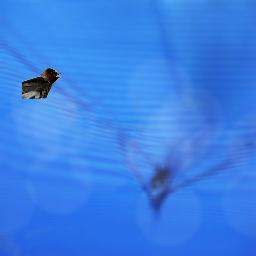Swallow: (22, 68, 62, 99)
